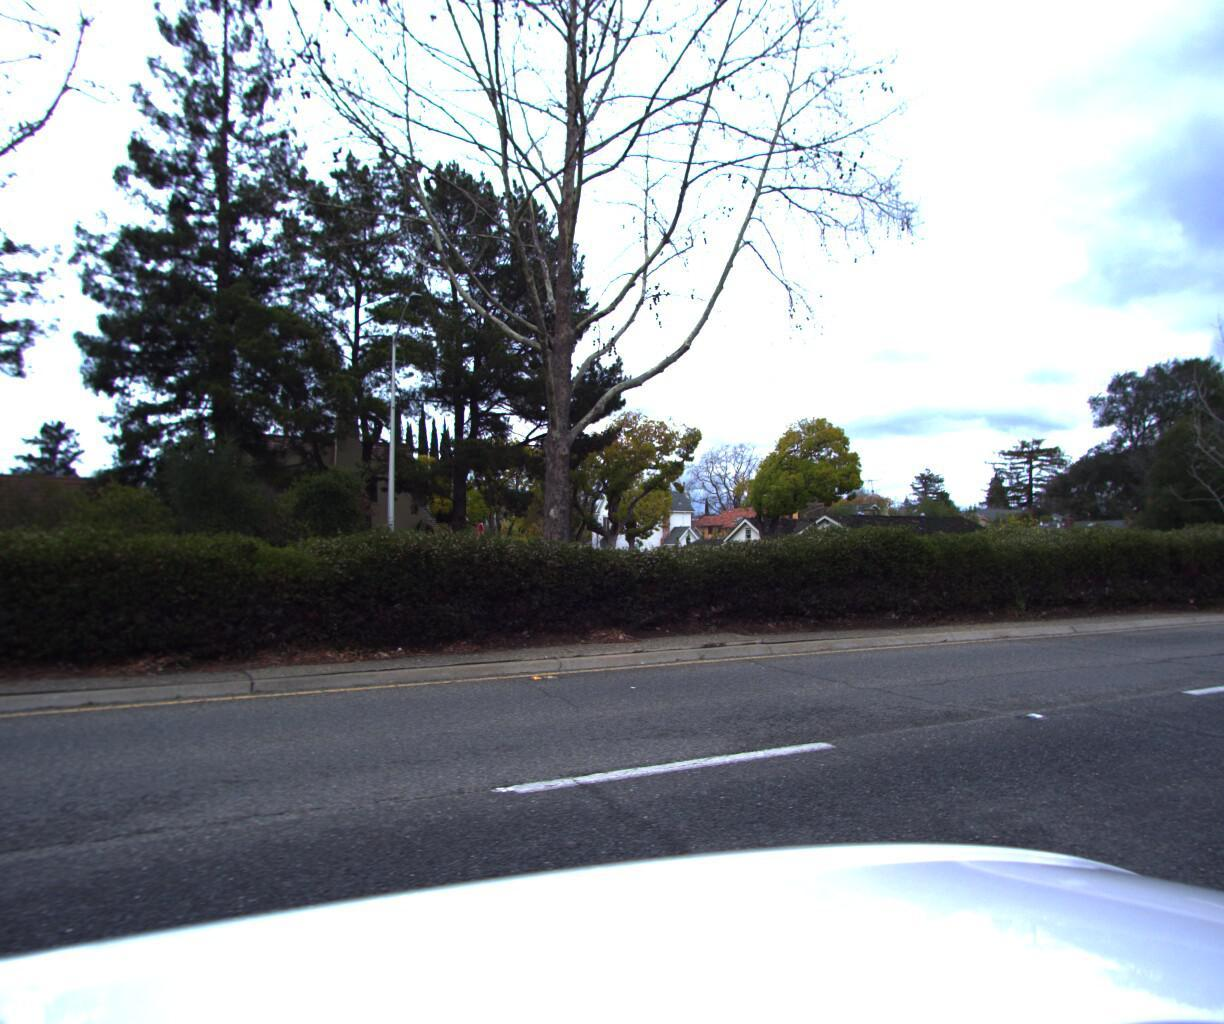car: (0, 532, 4, 622)
